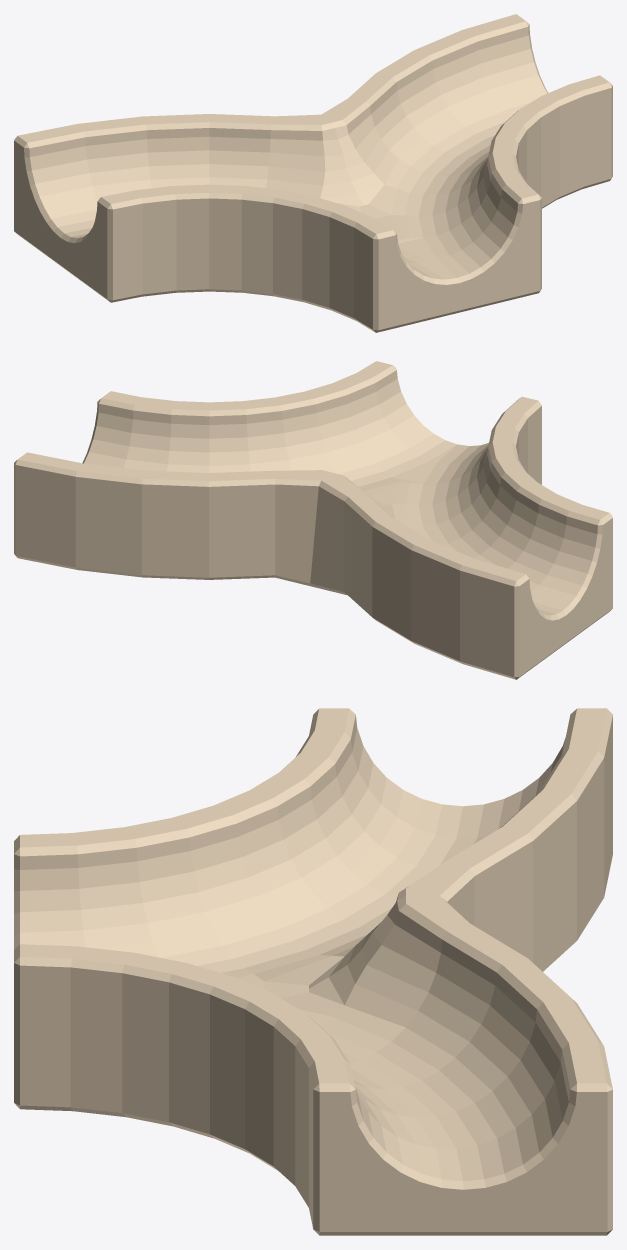
File: track_junction_a01.glb
3 views of the same model, one above another, from view 1: azimuth 30°, elevation 25°; view 2: azimuth 150°, elevation 25°; view 3: azimuth 270°, elevation 25° (orthographic). The views are drawn at different scales.
Parts seen in each view (by area): view 1: Junction; view 2: Junction; view 3: Junction.
Boxes of the visible parts, x1,y1,x2,y2 form: Junction: [14, 14, 612, 332]; Junction: [14, 361, 612, 679]; Junction: [14, 708, 612, 1235].
Bounding box in the file's own units: 3 × 0.5601 × 2.
